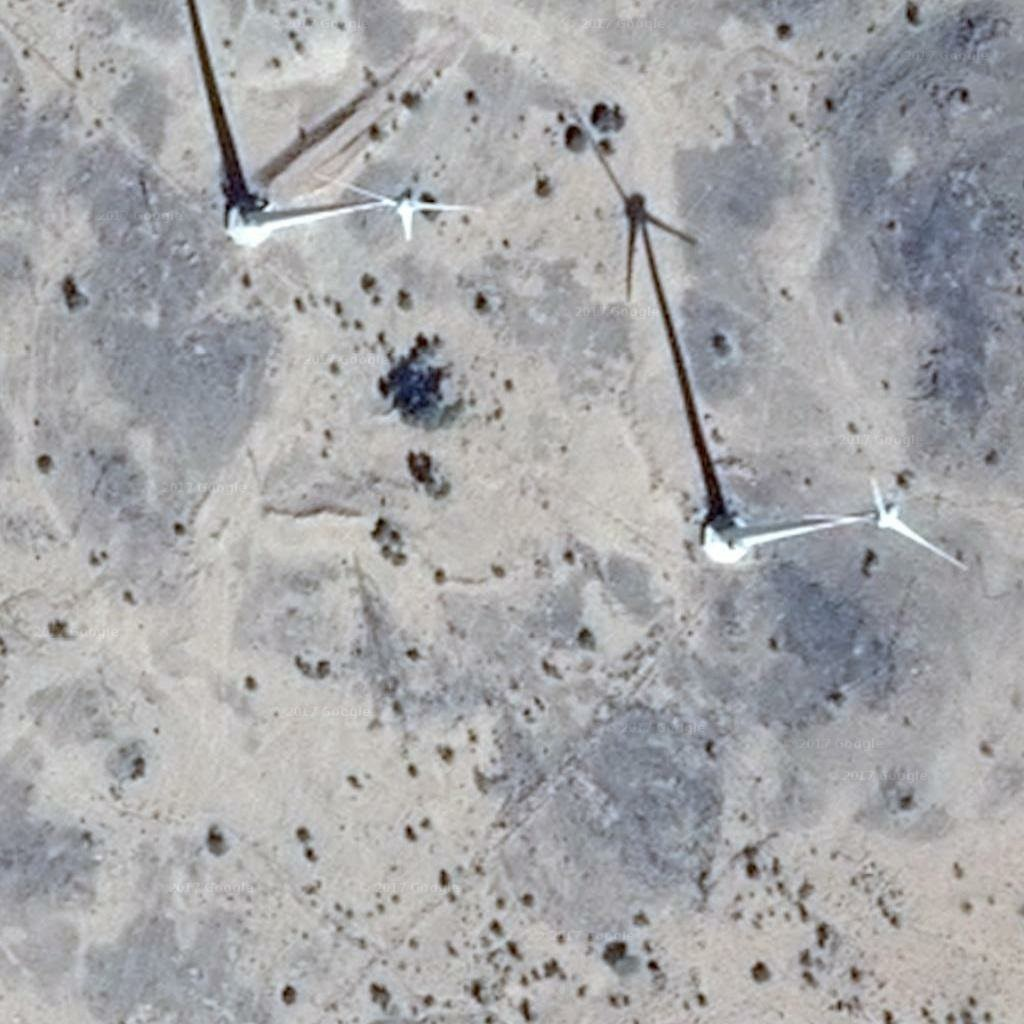Windmill: (566, 104, 738, 511)
